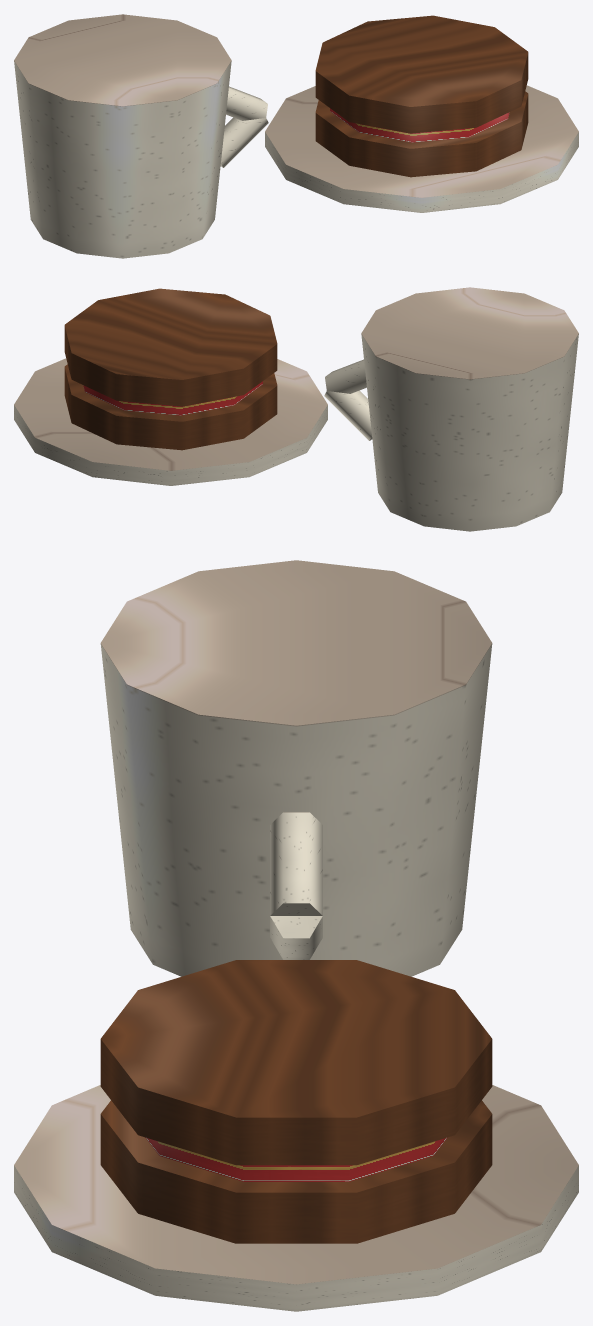
Rendered from dish-coffee.glb.
The picture shows the model from 3 angles, top to bottom: view 1: azimuth 30°, elevation 25°; view 2: azimuth 150°, elevation 25°; view 3: azimuth 270°, elevation 25°; orthographic projection. The views are drawn at different scales.
Visible parts, largest first — view 1: dish-coffee; view 2: dish-coffee; view 3: dish-coffee.
Boxes of the visible parts, x1=… form: dish-coffee: x1=14, y1=14, x2=578, y2=258; dish-coffee: x1=14, y1=287, x2=578, y2=531; dish-coffee: x1=14, y1=560, x2=578, y2=1311.
Size of the model in its own units: 0.0292 by 0.0084 by 0.015.
Materials: 1 (1 with a texture image).
